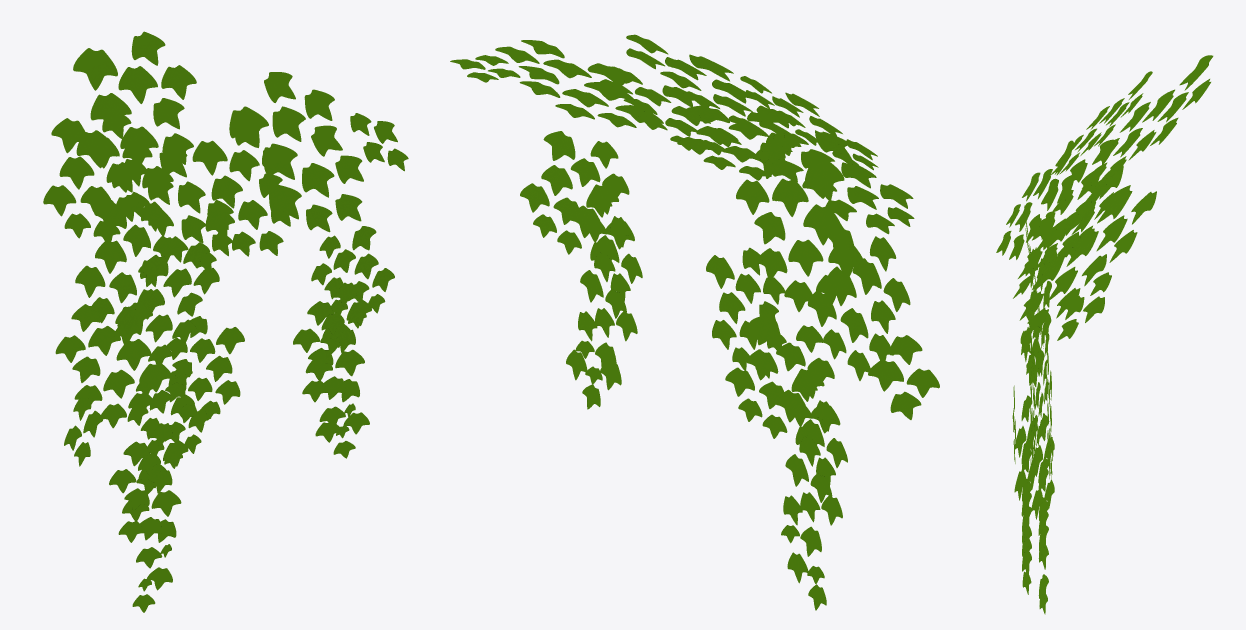
Rendered from vine-5.glb.
The picture shows the model from 3 angles, left to right: view 1: azimuth 30°, elevation 25°; view 2: azimuth 150°, elevation 25°; view 3: azimuth 270°, elevation 25°; orthographic projection. The views are drawn at different scales.
Parts seen in each view (by area): view 1: Prop_Vine5; view 2: Prop_Vine5; view 3: Prop_Vine5.
Part boxes in pixels (x1,y1,x2,y2): Prop_Vine5: (43,31,408,612); Prop_Vine5: (450,34,939,610); Prop_Vine5: (996,55,1213,614).
Size of the model in its own units: 2.3 by 2.99 by 1.13.
1 material, 1 textured.
